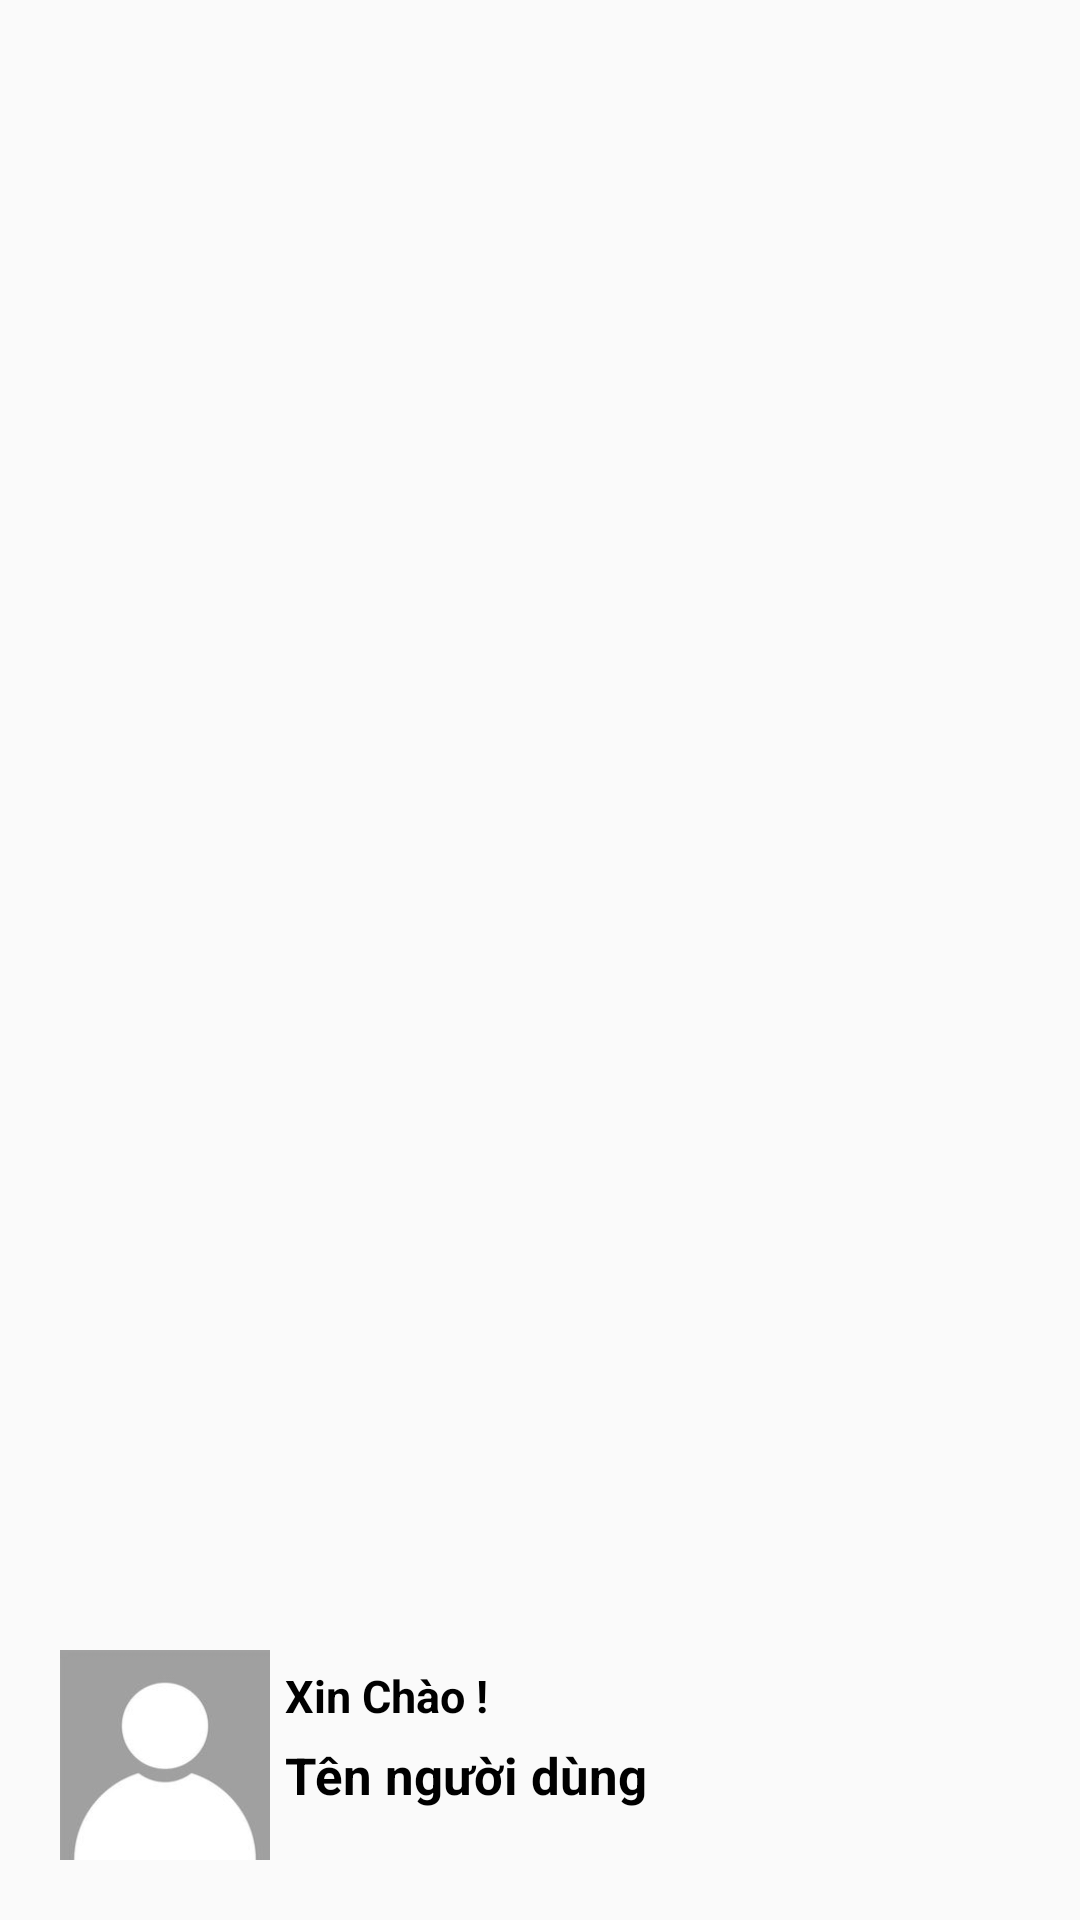

Where to tap for icons on this 1080px×1920px app screen, as (x,y):
item nguoi: (165,1755)
